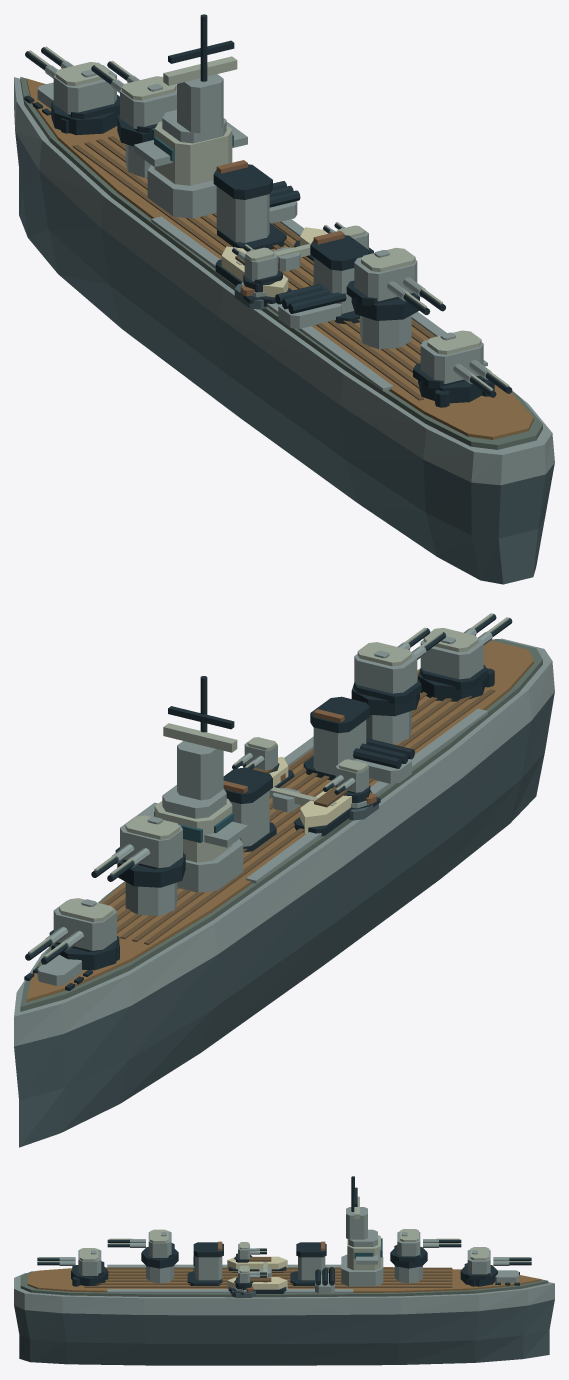
Rendered from historic-sydney.glb.
3 renders of one model, top to bottom at view 1: azimuth 30°, elevation 25°; view 2: azimuth 150°, elevation 25°; view 3: azimuth 270°, elevation 25°, orthographic. The views are drawn at different scales.
Visible parts, largest first — view 1: historic-sydney-historic-sydney-geometry, historic-sydney-part_bridge.057-geometry, historic-sydney-turret_main_2.041-geometry, historic-sydney-historic_funnel_0.059-geometry, historic-sydney-turret_main_0.048-geometry, historic-sydney-turret_main_3.023-geometry, historic-sydney-turret_main_1.046-geometry, historic-sydney-historic_funnel_1.032-geometry, historic-sydney-torpedo_bank_0.017-geometry, historic-sydney-turret_aa_aa-port.060-geometry, historic-sydney-torpedo_bank_1.014-geometry, historic-sydney-historic_catapult_0.014-geometry; view 2: historic-sydney-historic-sydney-geometry, historic-sydney-part_bridge.057-geometry, historic-sydney-turret_main_2.041-geometry, historic-sydney-turret_main_1.046-geometry, historic-sydney-turret_main_3.023-geometry, historic-sydney-turret_main_0.048-geometry, historic-sydney-historic_funnel_1.032-geometry, historic-sydney-historic_funnel_0.059-geometry, historic-sydney-torpedo_bank_0.017-geometry, historic-sydney-turret_aa_aa-port.060-geometry, historic-sydney-turret_aa_aa-starboard.057-geometry, historic-sydney-historic_catapult_0.014-geometry; view 3: historic-sydney-historic-sydney-geometry, historic-sydney-part_bridge.057-geometry, historic-sydney-turret_main_1.046-geometry, historic-sydney-turret_main_2.041-geometry, historic-sydney-turret_main_0.048-geometry, historic-sydney-turret_main_3.023-geometry, historic-sydney-historic_funnel_1.032-geometry, historic-sydney-historic_funnel_0.059-geometry, historic-sydney-torpedo_bank_1.014-geometry, historic-sydney-turret_aa_aa-starboard.057-geometry, historic-sydney-turret_aa_aa-port.060-geometry.
Part boxes in pixels (x1,y1,x2,y2): historic-sydney-historic-sydney-geometry: [14, 77, 554, 584]; historic-sydney-part_bridge.057-geometry: [134, 14, 247, 218]; historic-sydney-turret_main_2.041-geometry: [346, 248, 445, 320]; historic-sydney-historic_funnel_0.059-geometry: [213, 160, 286, 249]; historic-sydney-turret_main_0.048-geometry: [25, 46, 119, 135]; historic-sydney-turret_main_3.023-geometry: [413, 330, 512, 403]; historic-sydney-turret_main_1.046-geometry: [91, 61, 176, 146]; historic-sydney-historic_funnel_1.032-geometry: [310, 231, 369, 324]; historic-sydney-torpedo_bank_0.017-geometry: [275, 284, 346, 328]; historic-sydney-turret_aa_aa-port.060-geometry: [232, 244, 282, 292]; historic-sydney-torpedo_bank_1.014-geometry: [269, 181, 300, 223]; historic-sydney-historic_catapult_0.014-geometry: [236, 243, 311, 271]; historic-sydney-historic-sydney-geometry: [14, 638, 554, 1147]; historic-sydney-part_bridge.057-geometry: [134, 676, 247, 892]; historic-sydney-turret_main_2.041-geometry: [351, 627, 446, 716]; historic-sydney-turret_main_1.046-geometry: [91, 815, 185, 887]; historic-sydney-turret_main_3.023-geometry: [418, 613, 512, 701]; historic-sydney-turret_main_0.048-geometry: [25, 898, 119, 970]; historic-sydney-historic_funnel_1.032-geometry: [303, 696, 369, 780]; historic-sydney-historic_funnel_0.059-geometry: [223, 767, 276, 852]; historic-sydney-torpedo_bank_0.017-geometry: [353, 738, 414, 783]; historic-sydney-turret_aa_aa-port.060-geometry: [323, 759, 370, 803]; historic-sydney-turret_aa_aa-starboard.057-geometry: [232, 737, 279, 772]; historic-sydney-historic_catapult_0.014-geometry: [269, 787, 336, 812]; historic-sydney-historic-sydney-geometry: [14, 1256, 554, 1365]; historic-sydney-part_bridge.057-geometry: [341, 1176, 383, 1286]; historic-sydney-turret_main_1.046-geometry: [390, 1229, 461, 1268]; historic-sydney-turret_main_2.041-geometry: [107, 1229, 178, 1268]; historic-sydney-turret_main_0.048-geometry: [460, 1247, 531, 1286]; historic-sydney-turret_main_3.023-geometry: [37, 1248, 108, 1285]; historic-sydney-historic_funnel_1.032-geometry: [187, 1241, 223, 1285]; historic-sydney-historic_funnel_0.059-geometry: [290, 1241, 326, 1285]; historic-sydney-torpedo_bank_1.014-geometry: [315, 1267, 334, 1293]; historic-sydney-turret_aa_aa-starboard.057-geometry: [234, 1265, 266, 1289]; historic-sydney-turret_aa_aa-port.060-geometry: [234, 1242, 266, 1262].
Bounding box in the file's own units: 0.6448 × 1.57 × 4.32.
